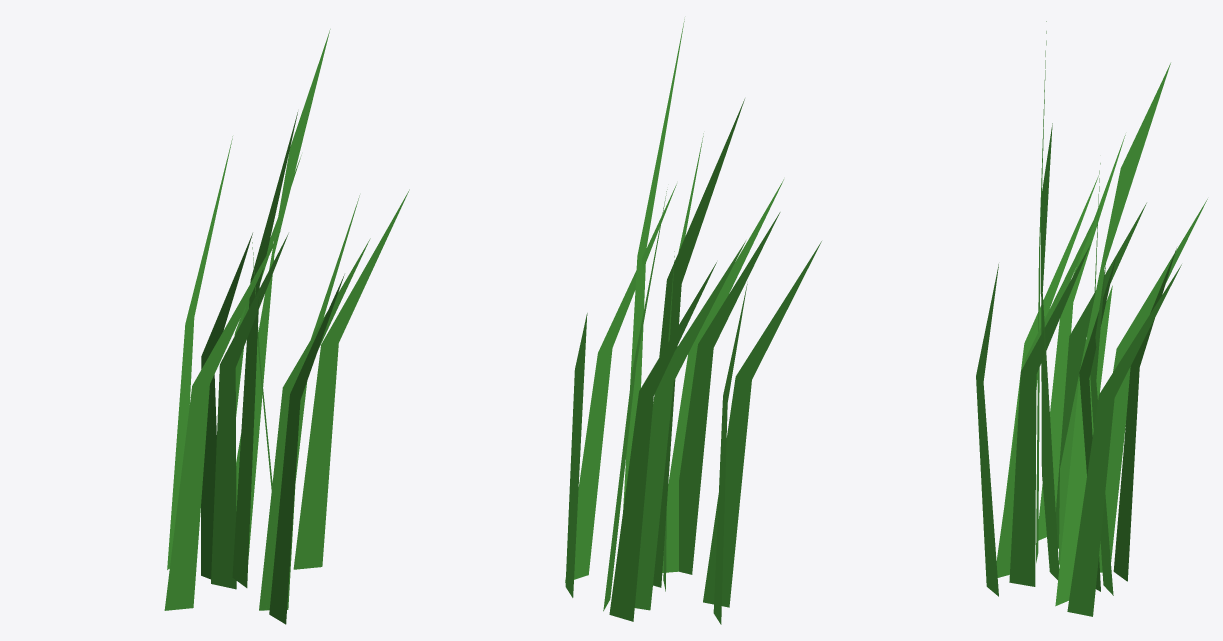
The model's file is grass-tuft.glb.
The picture shows the model from 3 angles, left to right: view 1: azimuth 30°, elevation 25°; view 2: azimuth 150°, elevation 25°; view 3: azimuth 270°, elevation 25°; orthographic projection. The views are drawn at different scales.
Parts seen in each view (by area): view 1: Plane002; view 2: Plane002; view 3: Plane002.
Boxes of the visible parts, bbox=[...] form: Plane002: bbox=[164, 29, 409, 624]; Plane002: bbox=[565, 19, 821, 624]; Plane002: bbox=[976, 21, 1207, 616].
Size of the model in its own units: 239 by 364 by 231.
